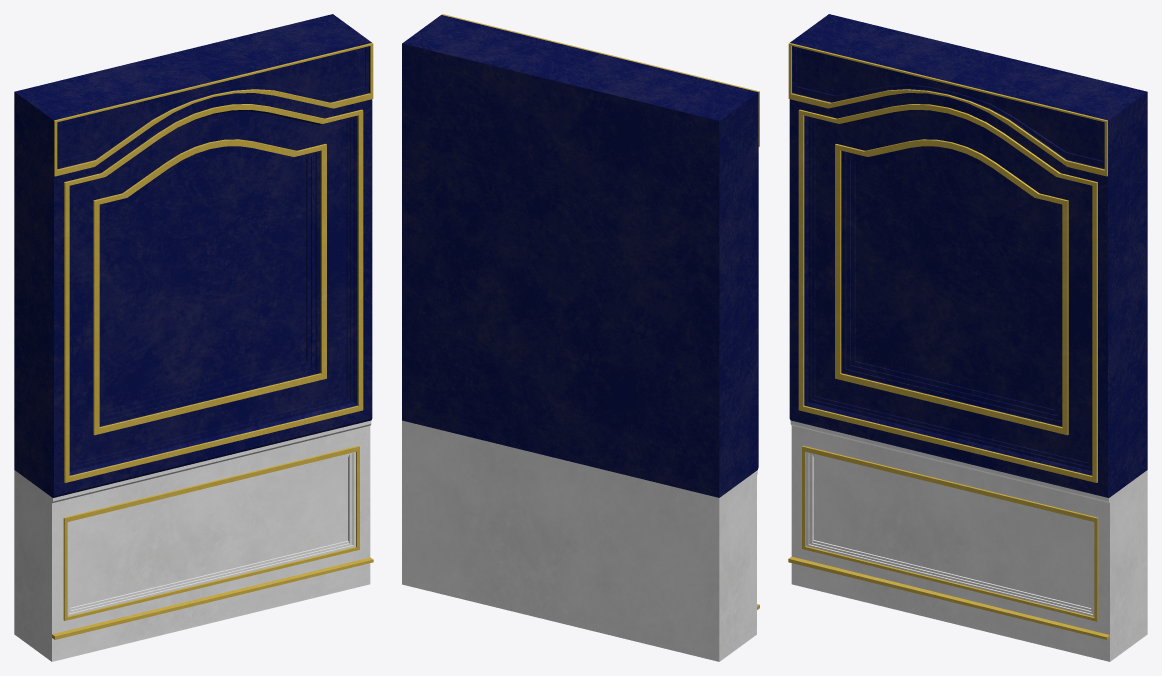
The model's file is wall_main_with_texture_diningroom.fbx.
3 renders of one model, left to right at view 1: azimuth 30°, elevation 25°; view 2: azimuth 150°, elevation 25°; view 3: azimuth 330°, elevation 25°, orthographic.
Visible parts, largest first — view 1: wall_main_dining_room; view 2: wall_main_dining_room; view 3: wall_main_dining_room.
Boxes of the visible parts, x1,y1,x2,y2 form: wall_main_dining_room: (14, 14, 373, 661); wall_main_dining_room: (402, 14, 759, 661); wall_main_dining_room: (788, 14, 1147, 661).
Size of the model in its own units: 105 by 170 by 23.08.
